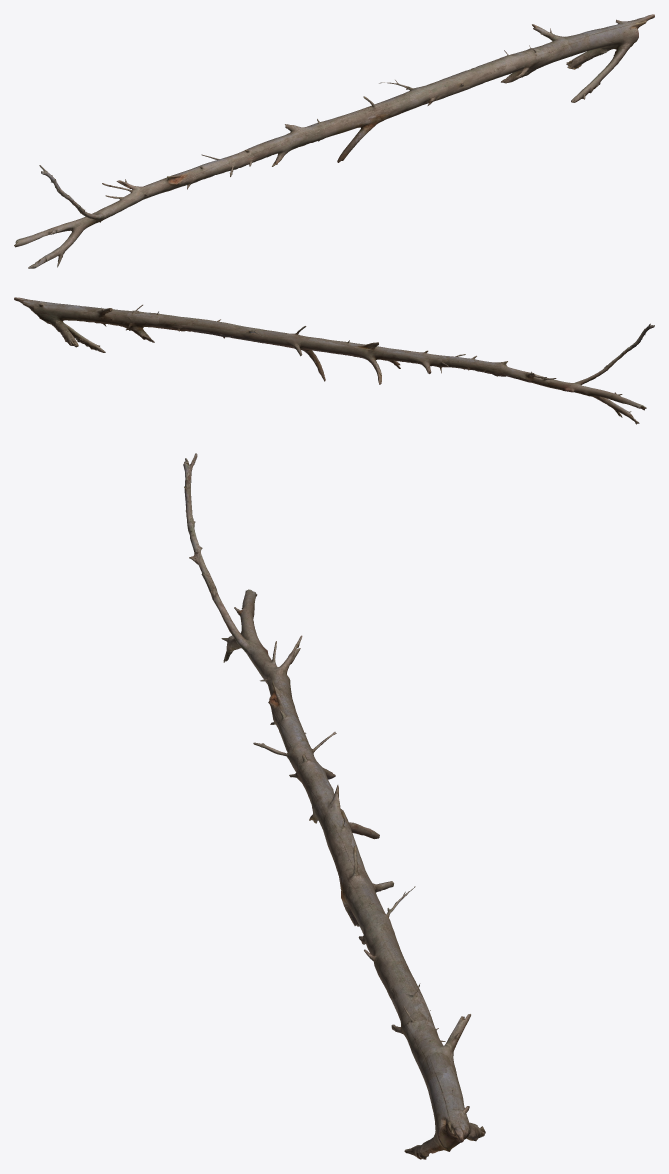
3 views of the same model, one above another, from view 1: azimuth 30°, elevation 25°; view 2: azimuth 150°, elevation 25°; view 3: azimuth 270°, elevation 25° (orthographic). The views are drawn at different scales.
Visible parts, largest first — view 1: Pine Tree Fallen Trunk PBR Scan; view 2: Pine Tree Fallen Trunk PBR Scan; view 3: Pine Tree Fallen Trunk PBR Scan.
Part boxes in pixels (left/top/right/bottom): Pine Tree Fallen Trunk PBR Scan: left=14, top=14, right=654, bottom=268; Pine Tree Fallen Trunk PBR Scan: left=14, top=297, right=654, bottom=424; Pine Tree Fallen Trunk PBR Scan: left=183, top=453, right=485, bottom=1159.
Bounding box in the file's own units: 8.6 × 1.55 × 1.95.
1 material, 1 textured.
